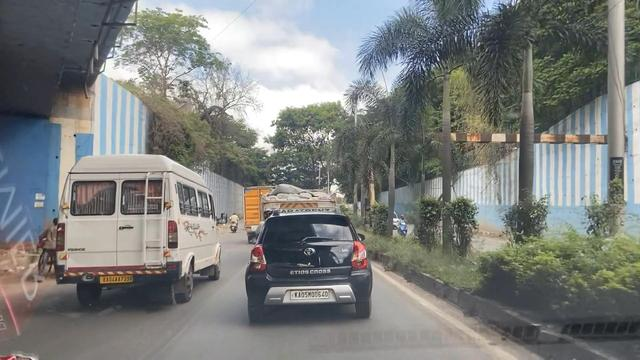HMV: (54, 154, 230, 318)
LMV: (239, 206, 384, 334)
